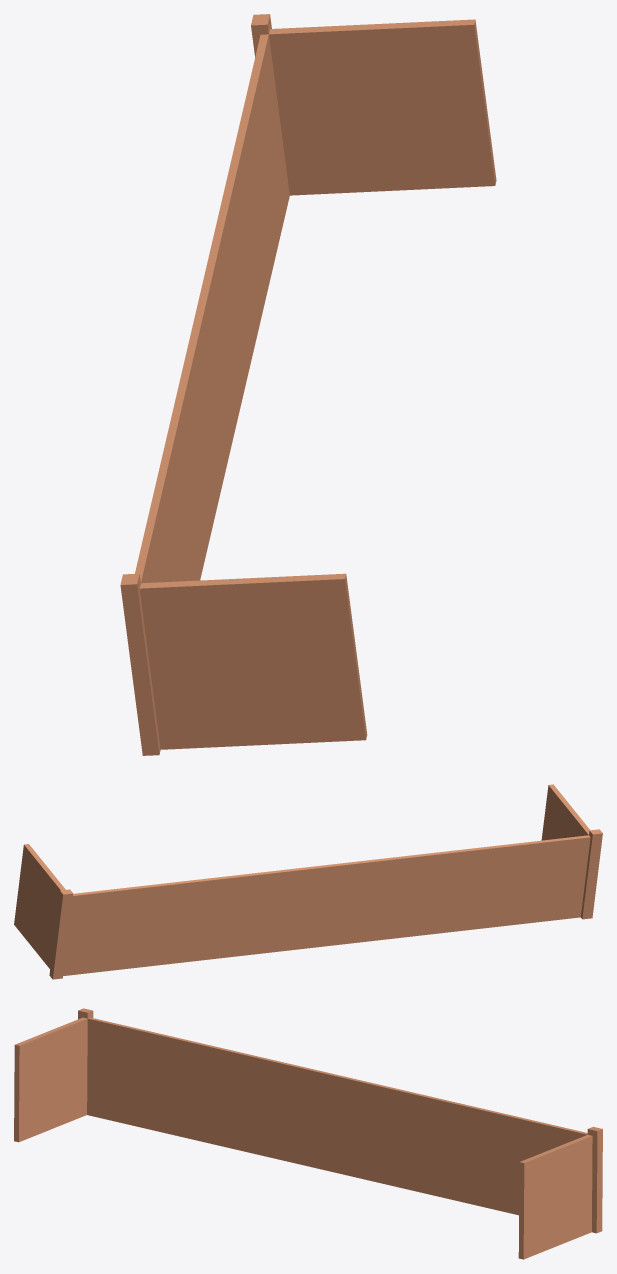
Rendered from fence_wide.008.obj.
The picture shows the model from 3 angles, top to bottom: view 1: azimuth 30°, elevation 25°; view 2: azimuth 150°, elevation 25°; view 3: azimuth 270°, elevation 25°; orthographic projection. The views are drawn at different scales.
Parts seen in each view (by area): view 1: fence_wide.008; view 2: fence_wide.008; view 3: fence_wide.008.
Boxes of the visible parts, left/top/right/bottom form: fence_wide.008: left=120, top=14, right=496, bottom=755; fence_wide.008: left=14, top=784, right=602, bottom=979; fence_wide.008: left=14, top=1008, right=602, bottom=1259.
Bounding box in the file's own units: 1.1 × 0.3567 × 1.32.
